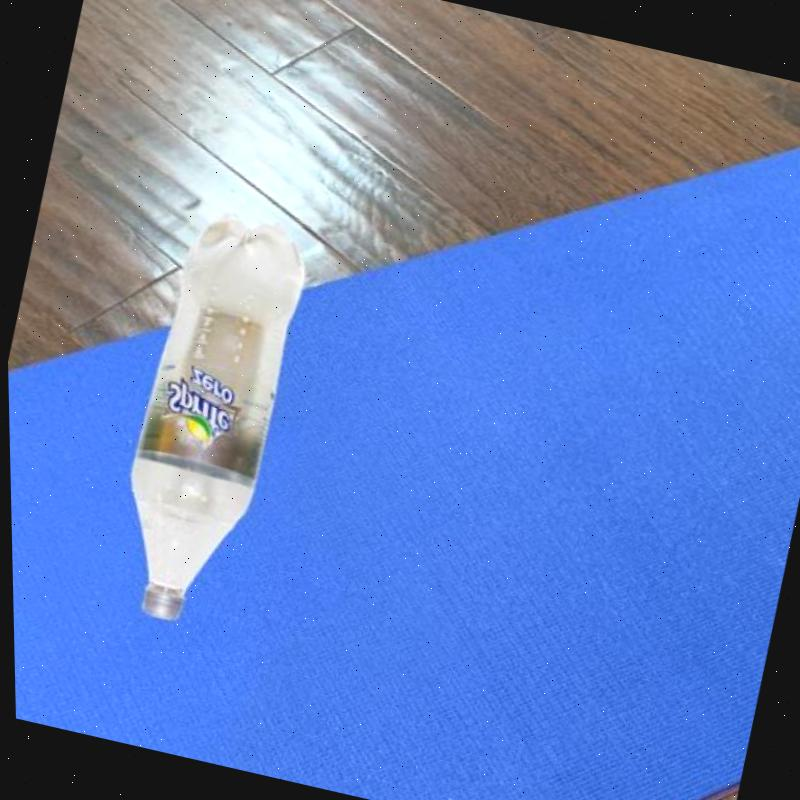botella: (92, 198, 322, 636)
